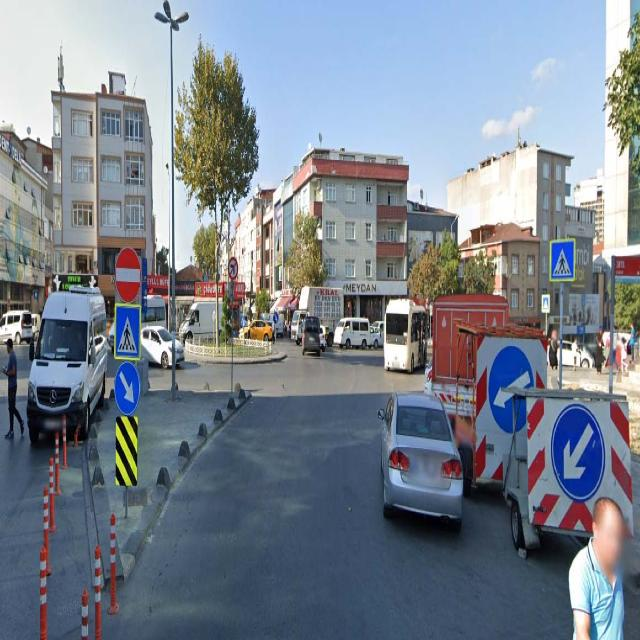girisyok: (115, 247, 141, 301)
soladonulmez: (227, 258, 238, 279)
